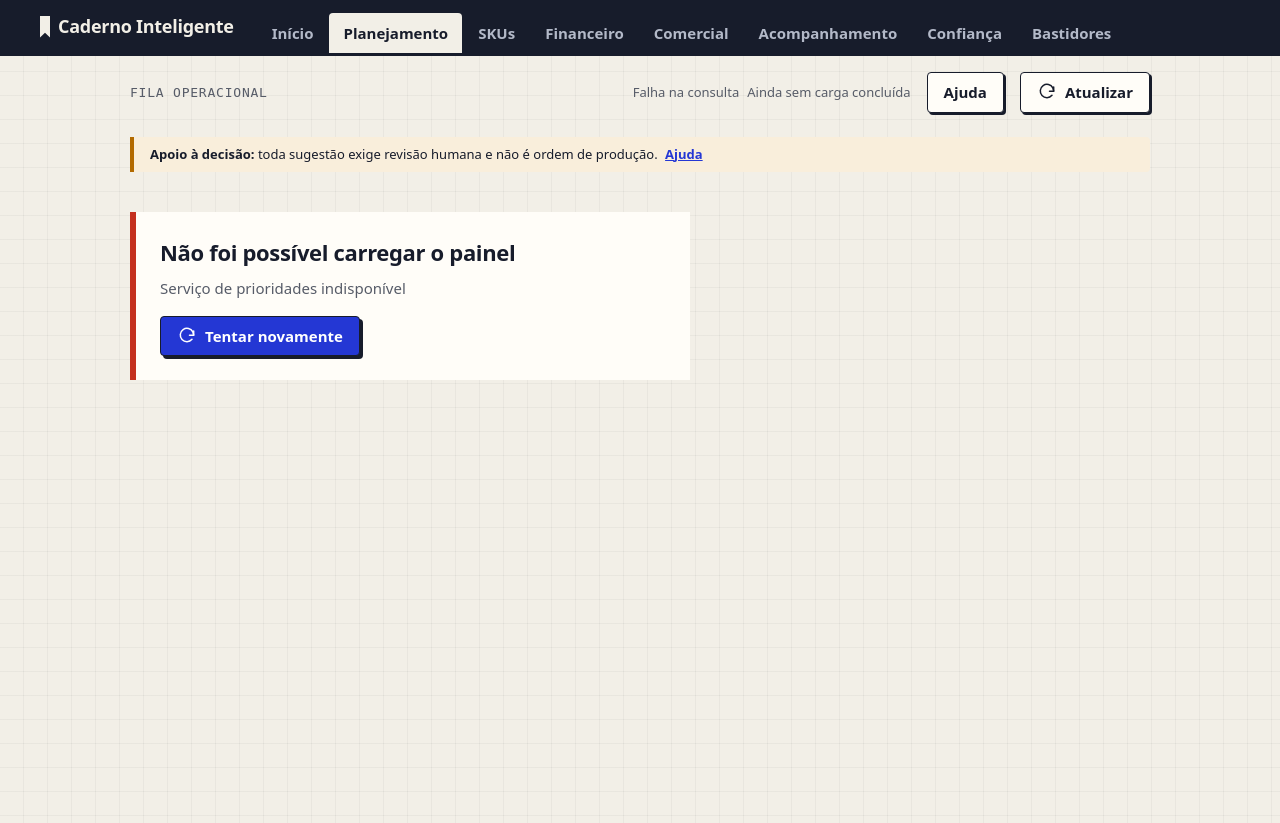
Scenario: estados de carregamento, erro, vazio e sucesso › erro: mostra a mensagem da API e recupera com "Tentar novamente"
Expected: the heading "Não foi possível carregar o painel" is shown, [160, 237, 515, 267]
Expected: the text "Serviço de prioridades indisponível" is shown, [160, 278, 406, 298]
What coordinates should you click on to do the following:
click the button "Tentar novamente"
I would click on:
 (260, 336)
Its box is [160, 316, 360, 356].
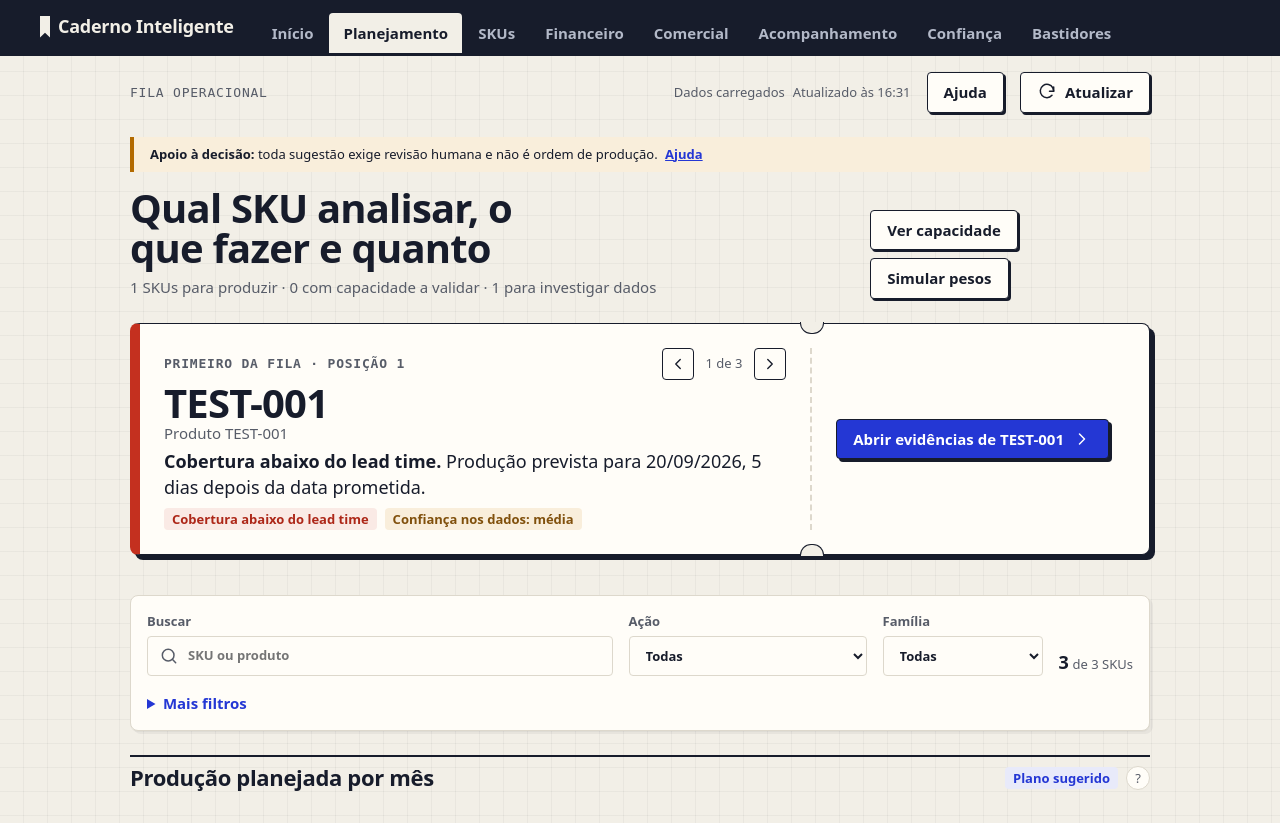
Now the text "Dados carregados" is shown, box [674, 82, 785, 102]
